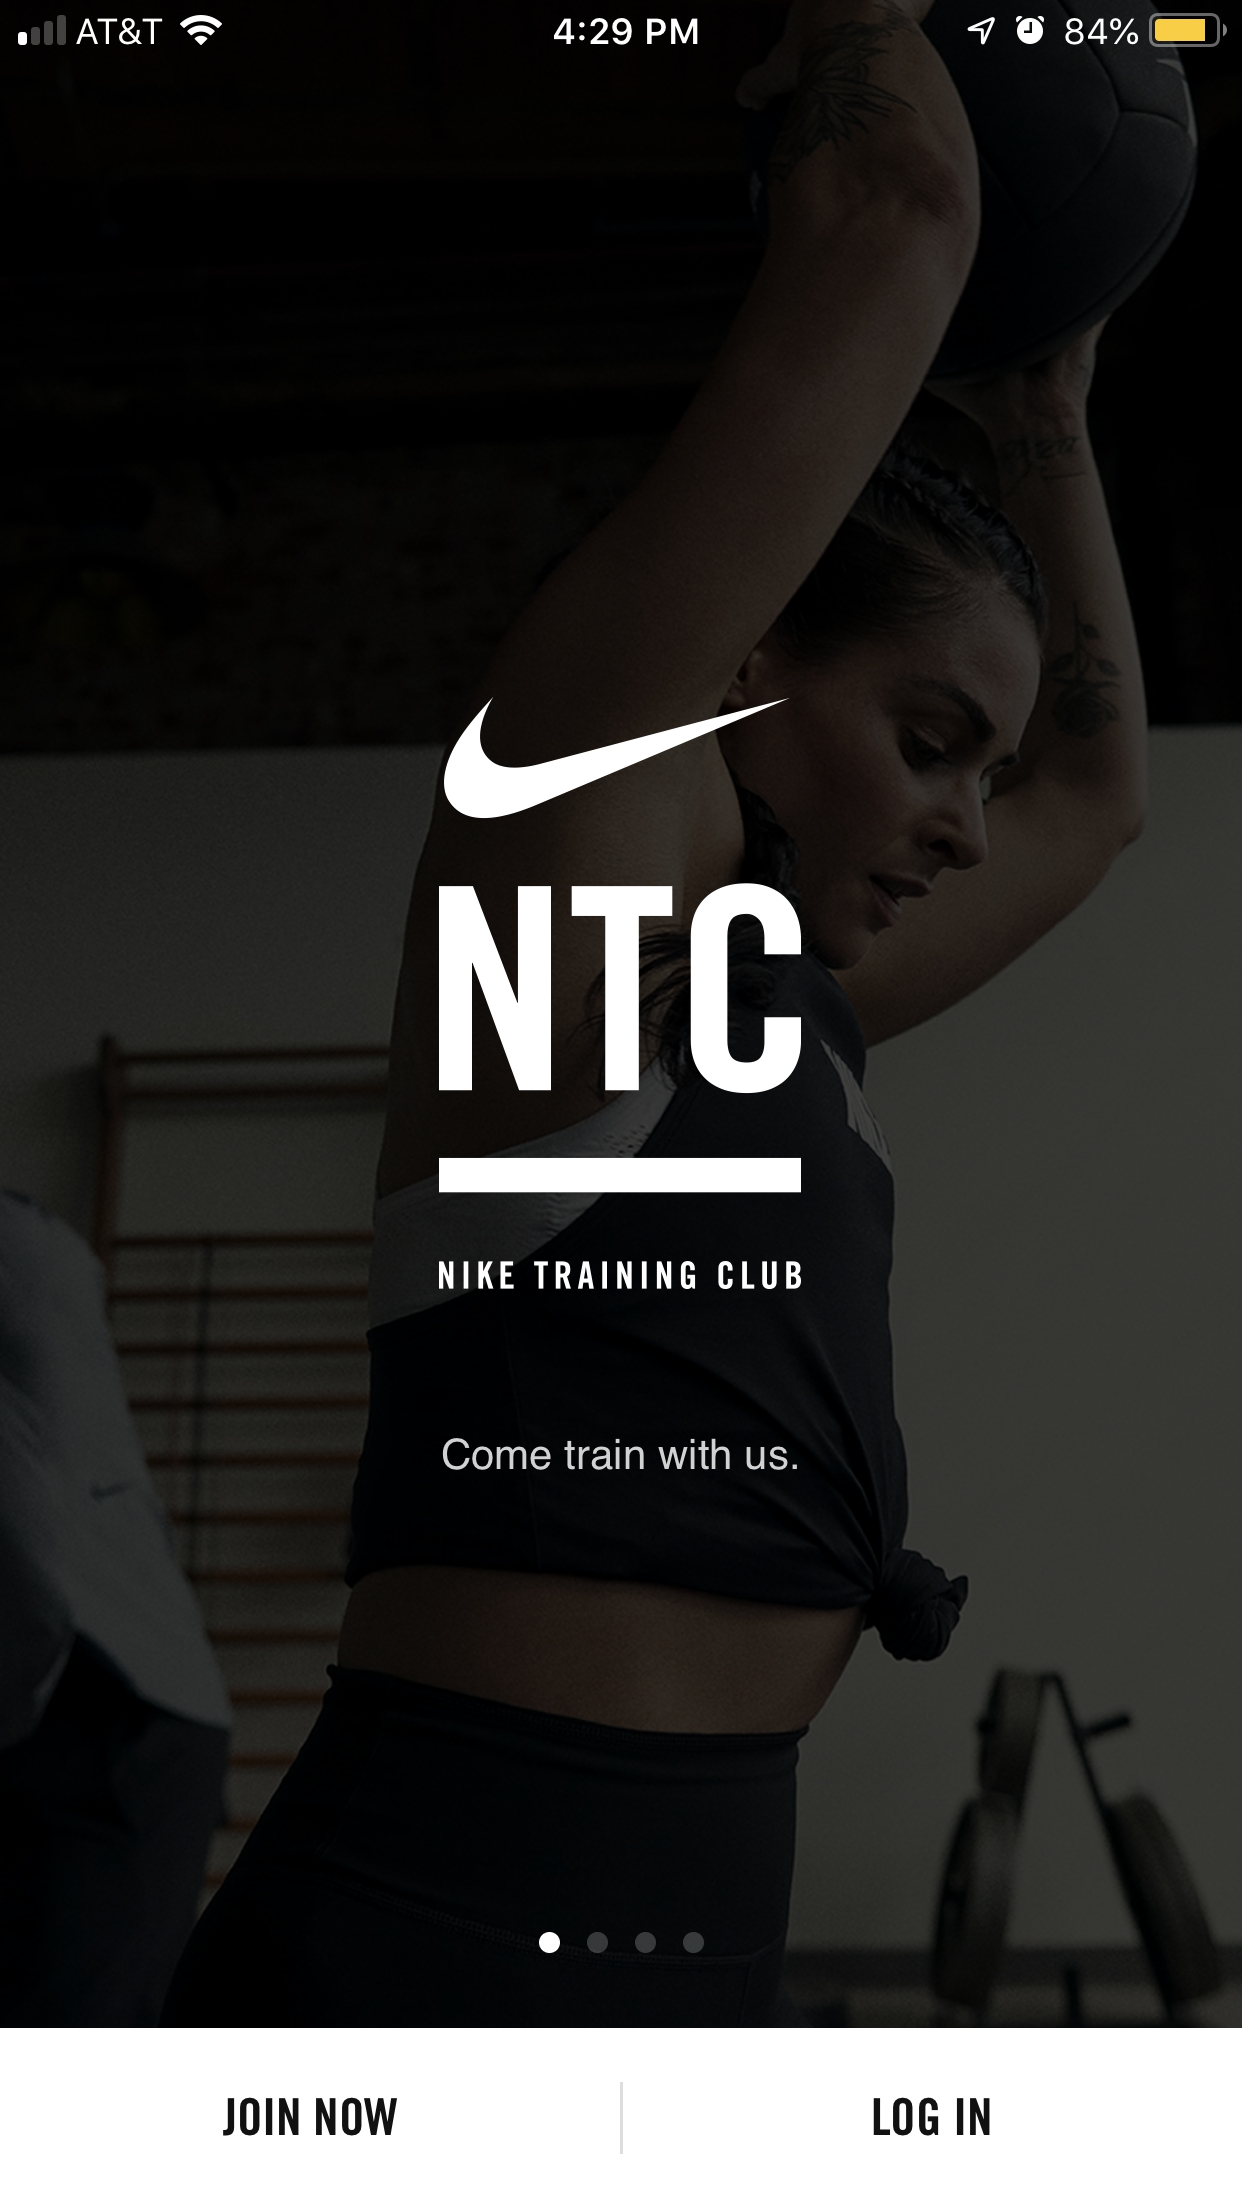BackgroundImage: (2, 2, 1242, 2028)
Image: (444, 696, 793, 820)
PageIndicator: (538, 1930, 705, 1955)
Text: (438, 883, 804, 1096), (443, 1438, 799, 1471), (438, 1262, 802, 1291), (223, 2097, 397, 2137), (873, 2097, 990, 2137)
UpperTaskBar: (2, 2, 1242, 55)
